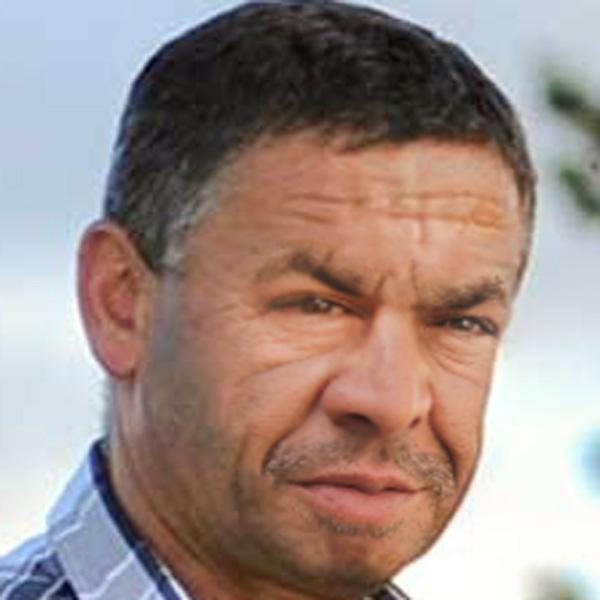Eyes: (260, 275, 366, 339), (415, 295, 500, 351)
